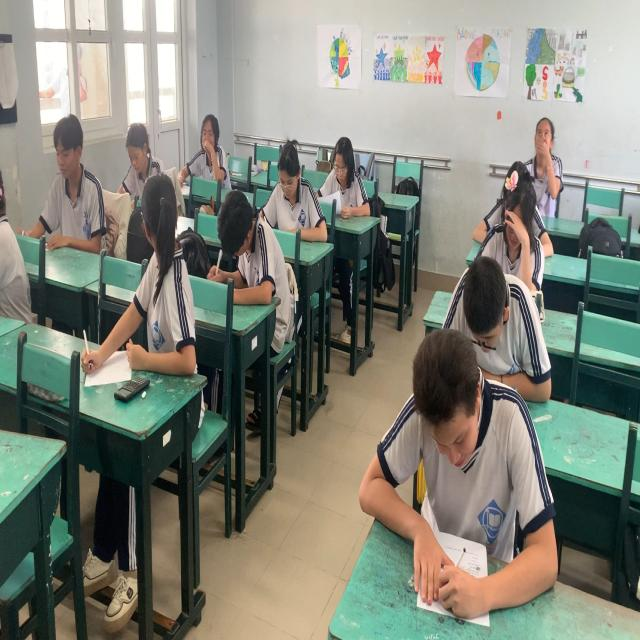cheating: (137, 171, 206, 381)
not_cheating: (380, 334, 521, 588), (444, 247, 534, 353), (41, 112, 102, 260), (265, 126, 321, 222), (208, 188, 264, 282), (478, 188, 537, 260), (323, 127, 368, 206), (115, 122, 154, 192), (524, 102, 558, 167), (194, 116, 220, 180)
